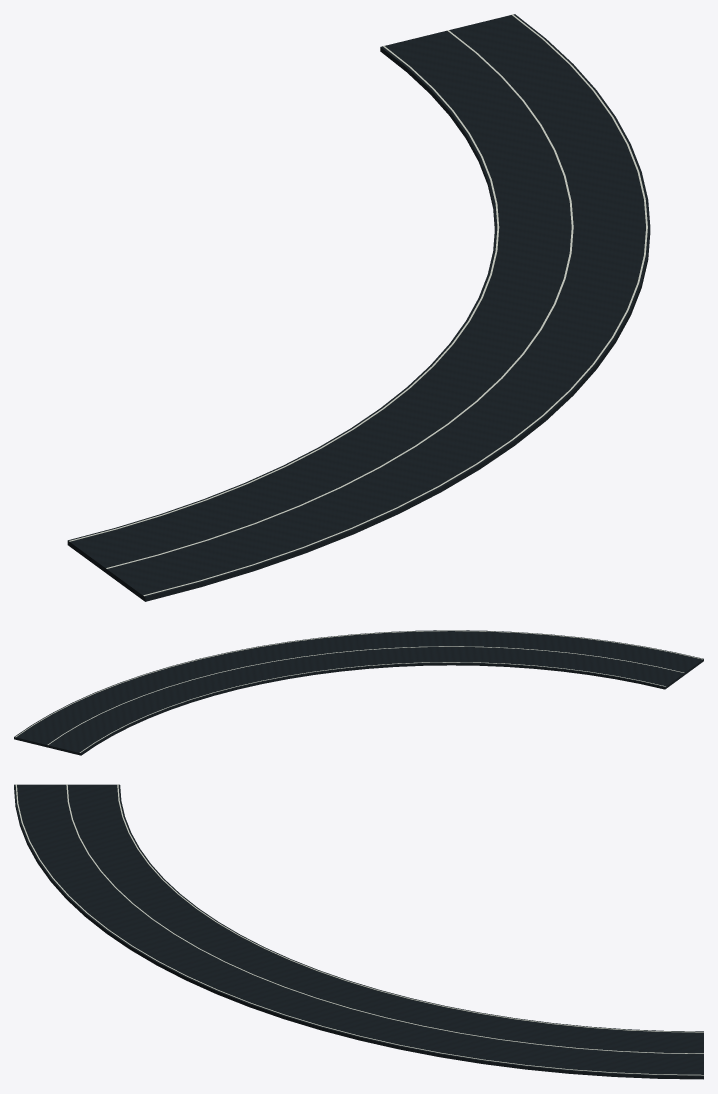
Rendered from Transit_Road_2L_Curve90_R36.glb.
3 views of the same model, one above another, from view 1: azimuth 30°, elevation 25°; view 2: azimuth 150°, elevation 25°; view 3: azimuth 270°, elevation 25° (orthographic). The views are drawn at different scales.
Parts seen in each view (by area): view 1: Transit_Road_2L_Curve90_R36_Surface, Transit_Road_2L_Curve90_R36_MarkEdge-1, Transit_Road_2L_Curve90_R36_MarkLane1, Transit_Road_2L_Curve90_R36_MarkEdge+1; view 2: Transit_Road_2L_Curve90_R36_Surface, Transit_Road_2L_Curve90_R36_MarkEdge-1, Transit_Road_2L_Curve90_R36_MarkLane1, Transit_Road_2L_Curve90_R36_MarkEdge+1; view 3: Transit_Road_2L_Curve90_R36_Surface, Transit_Road_2L_Curve90_R36_MarkEdge-1, Transit_Road_2L_Curve90_R36_MarkLane1, Transit_Road_2L_Curve90_R36_MarkEdge+1.
Part boxes in pixels (left/top/right/bottom): Transit_Road_2L_Curve90_R36_Surface: left=67, top=14, right=650, bottom=601; Transit_Road_2L_Curve90_R36_MarkEdge-1: left=143, top=14, right=647, bottom=596; Transit_Road_2L_Curve90_R36_MarkLane1: left=106, top=30, right=573, bottom=568; Transit_Road_2L_Curve90_R36_MarkEdge+1: left=69, top=46, right=499, bottom=541; Transit_Road_2L_Curve90_R36_Surface: left=14, top=630, right=703, bottom=755; Transit_Road_2L_Curve90_R36_MarkEdge-1: left=15, top=630, right=702, bottom=737; Transit_Road_2L_Curve90_R36_MarkLane1: left=47, top=646, right=684, bottom=744; Transit_Road_2L_Curve90_R36_MarkEdge+1: left=79, top=662, right=665, bottom=752; Transit_Road_2L_Curve90_R36_Surface: left=14, top=784, right=703, bottom=1079; Transit_Road_2L_Curve90_R36_MarkEdge-1: left=15, top=784, right=703, bottom=1075; Transit_Road_2L_Curve90_R36_MarkLane1: left=66, top=784, right=703, bottom=1053; Transit_Road_2L_Curve90_R36_MarkEdge+1: left=117, top=784, right=703, bottom=1032.
Bounding box in the file's own units: 39 × 0.212 × 39.
Materials: 2 (1 with a texture image).
